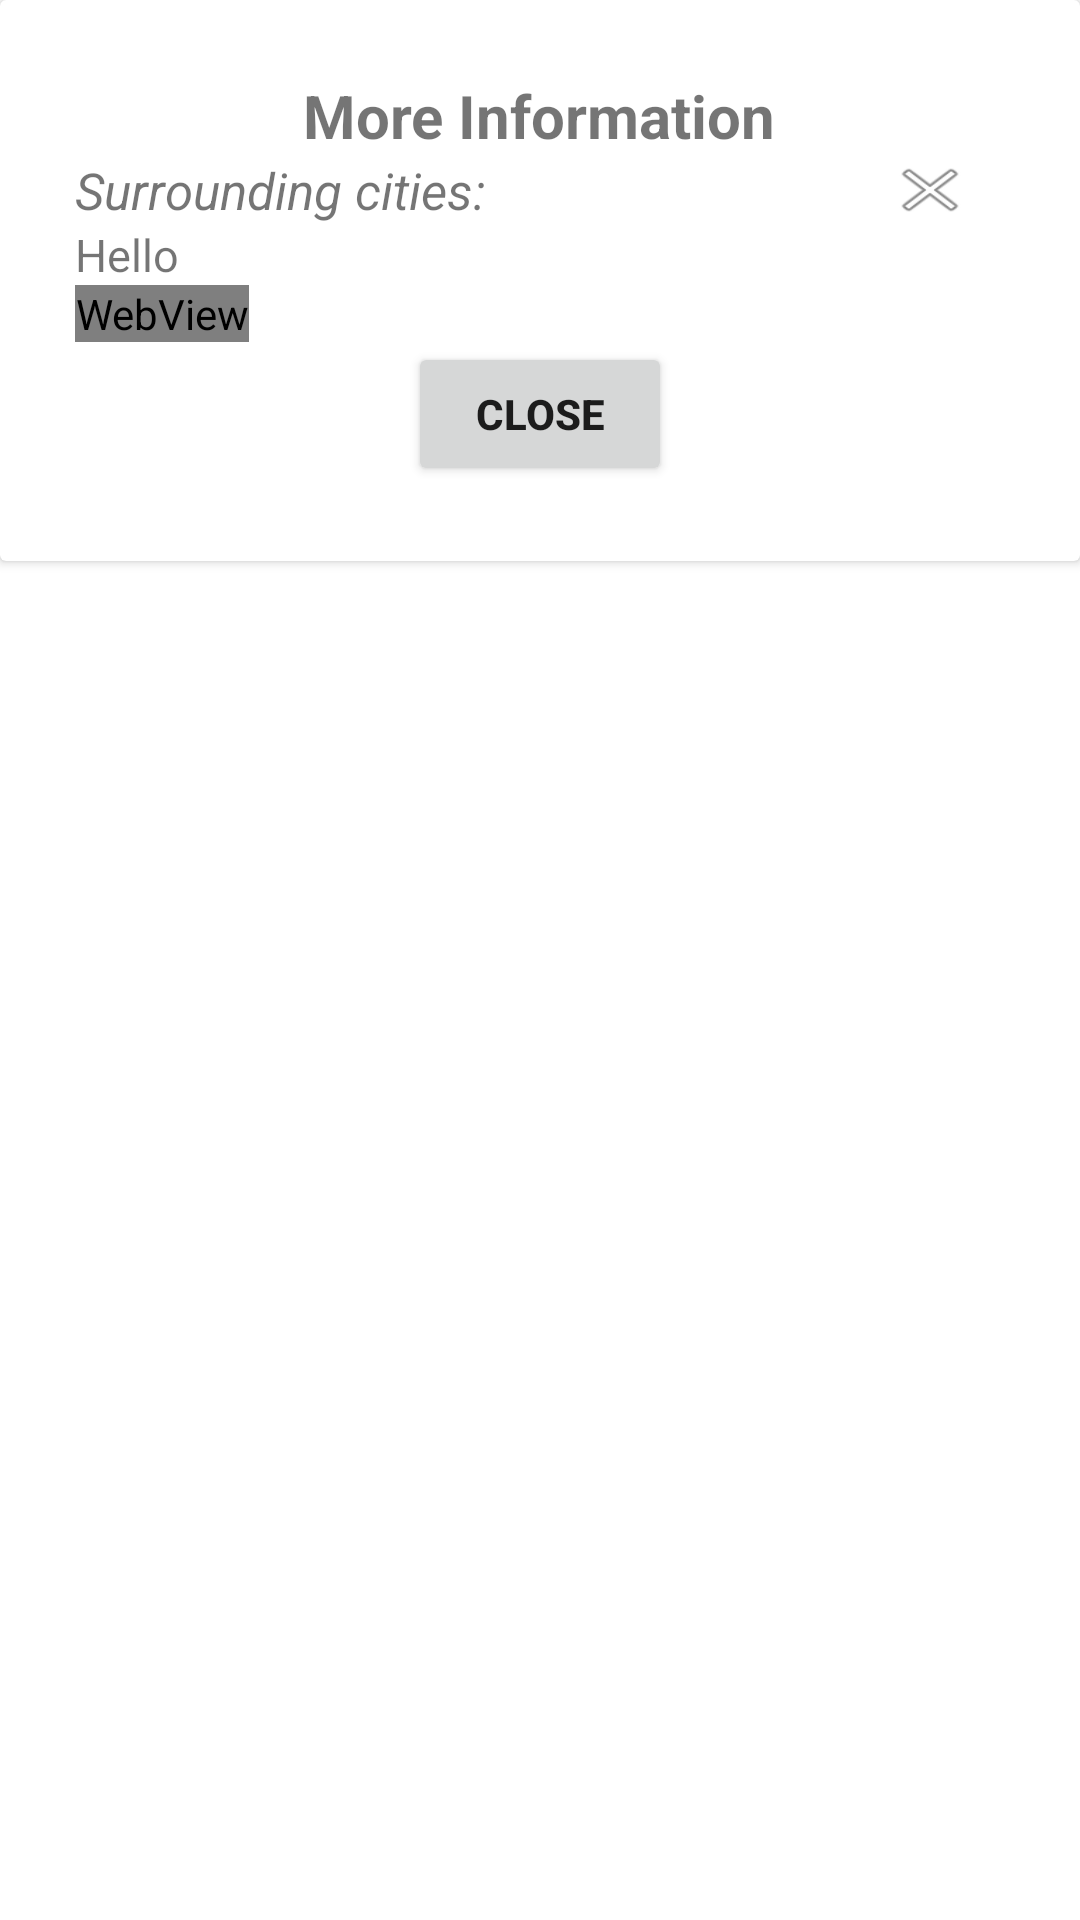

Icon click points for this 1080w x 1920h phone screenshot, format [x,y]:
close clear cancel: [930,190]
